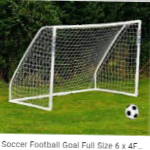goals: (8, 18, 145, 111)
